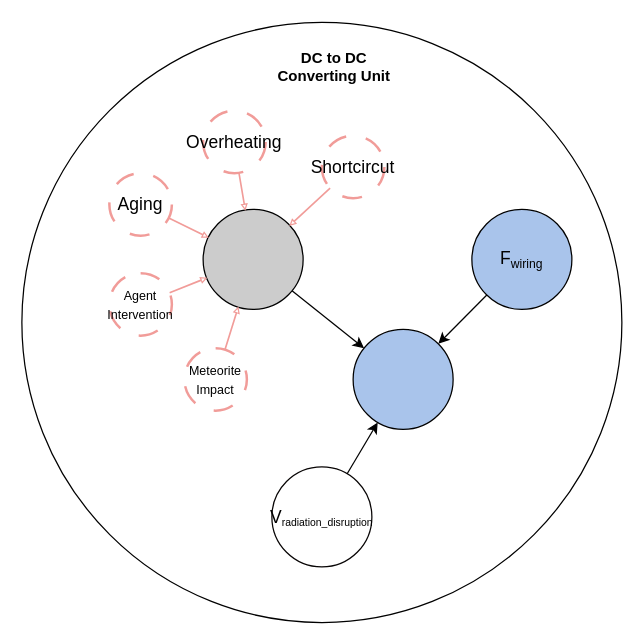
The diagram is 644 pixels wide and 644 high, and some of its shapes have lost their labels. Each missing label, with the centre of its shape:
"F DDCU" belongs at pixel 402 378.
"H DDCU" belongs at pixel 252 258.
